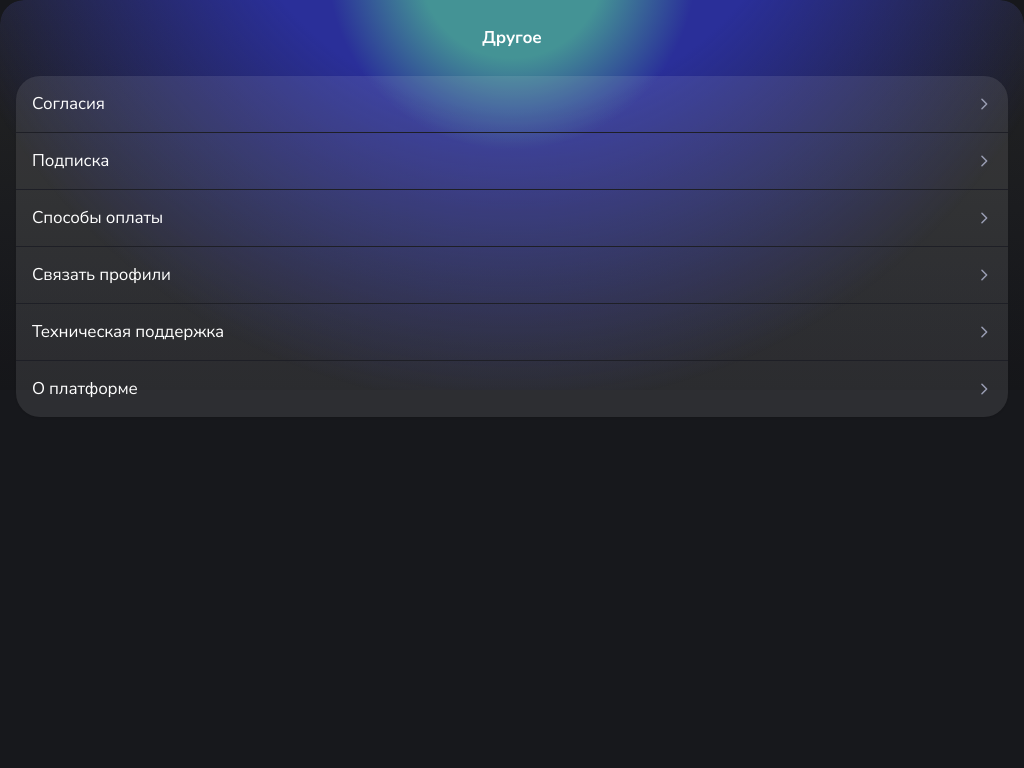
Scenario: master OtherPage › показывает ошибку связывания при API failure
Click the button "Связать профили". click: (101, 274)
box: [16,247,1008,304]
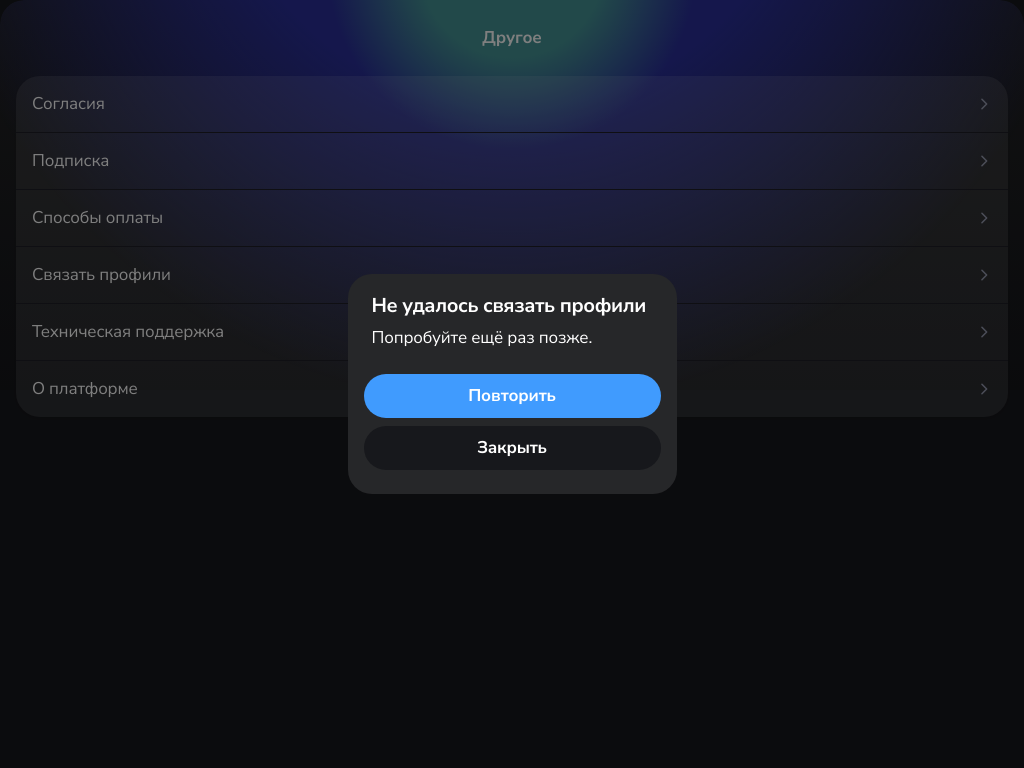
Now the dialog "Не удалось связать профили" is shown, box [348,274,676,494]
Now the text "Попробуйте ещё раз позже." is shown, box [372,326,592,349]
